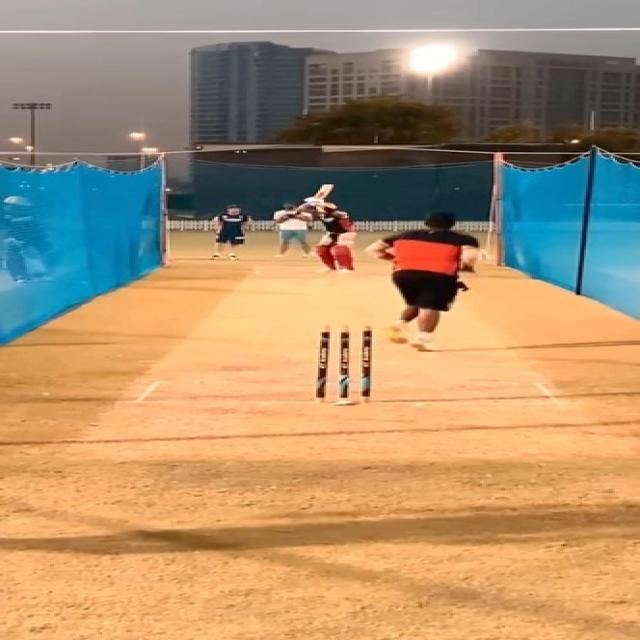batsman: (298, 183, 360, 274)
